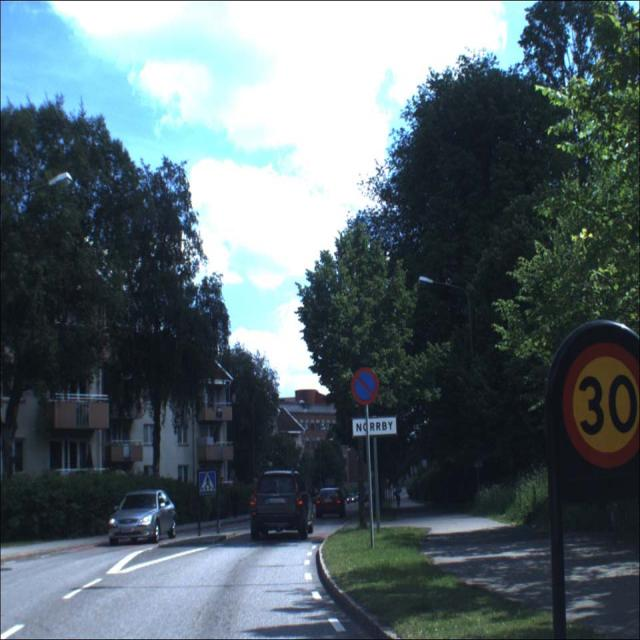30: (564, 343, 640, 468)
parkyasak: (352, 368, 379, 405)
